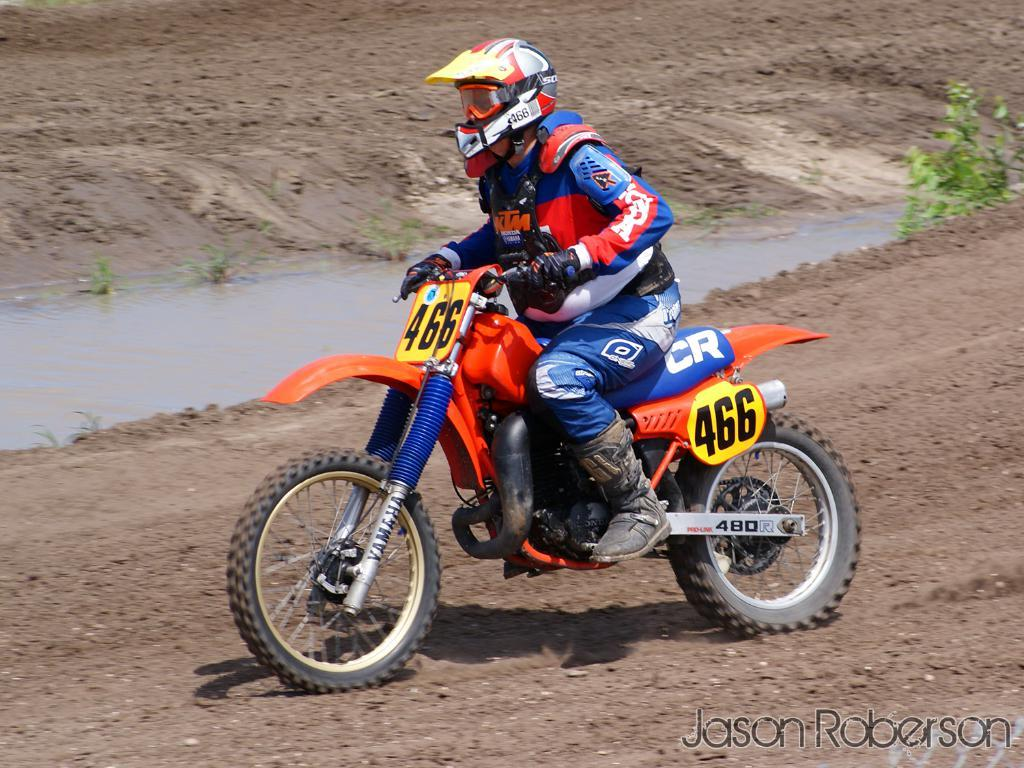helmet: (425, 38, 558, 159)
